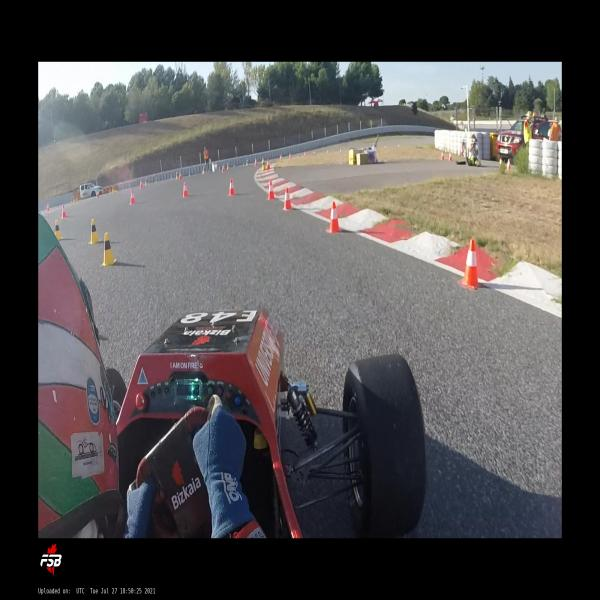orange_cone: (458, 239, 482, 290), (326, 202, 341, 234), (282, 187, 293, 211), (267, 179, 275, 200), (228, 178, 236, 196), (182, 182, 190, 197), (61, 204, 68, 219), (130, 189, 136, 204), (506, 159, 512, 171), (46, 203, 51, 212), (266, 160, 270, 169), (179, 173, 183, 180), (441, 151, 444, 160), (449, 152, 452, 161), (222, 165, 225, 173), (254, 158, 257, 166), (140, 180, 143, 188), (500, 157, 502, 167), (280, 154, 282, 161), (97, 192, 99, 198), (289, 153, 291, 159)
yellow_cone: (100, 232, 118, 267), (88, 218, 102, 245), (54, 219, 63, 240), (261, 160, 265, 171), (179, 173, 183, 180), (113, 185, 116, 193), (202, 167, 205, 175), (226, 164, 229, 171), (73, 194, 75, 204), (146, 178, 148, 186), (176, 172, 178, 180), (246, 160, 248, 166), (156, 178, 157, 182)
